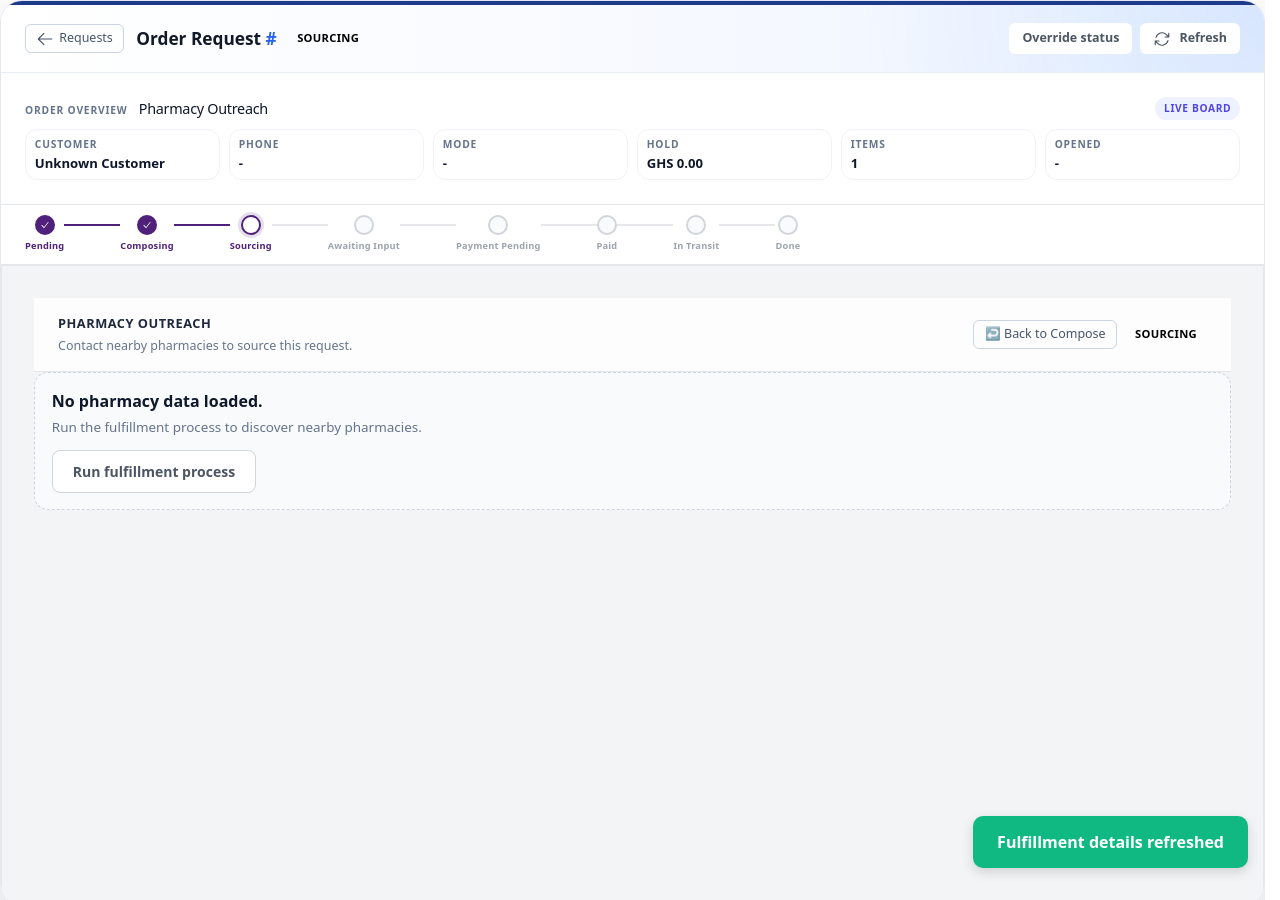
Test: status override › keeps Apply off while no status is chosen
The width and height of the screenshot is (1280, 900).
Click the button "Override status": x=1071, y=39 [1009,23,1132,54]
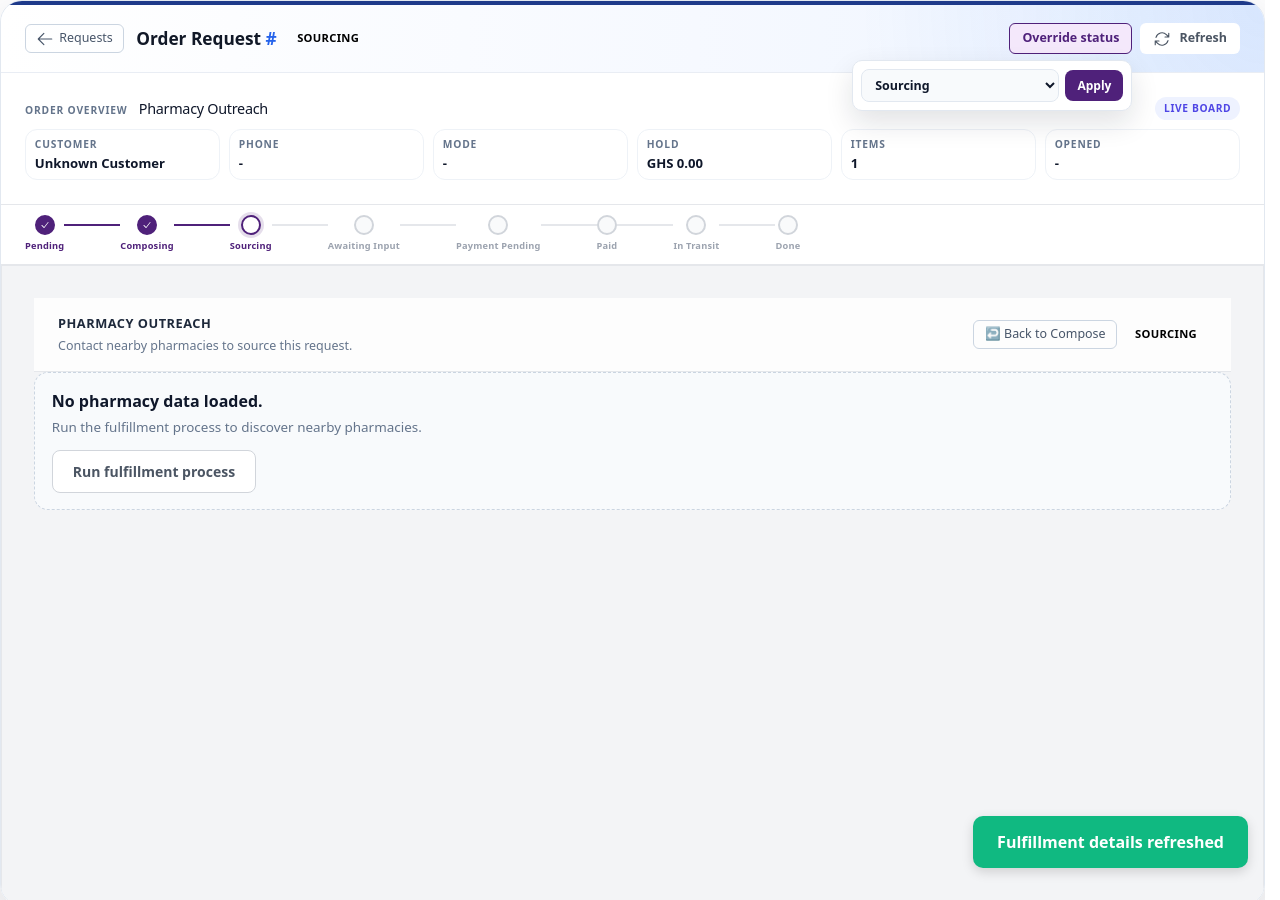
Select "Change status…" in the dropdown with class "header-status-override-select": x=960, y=86 [861,69,1059,102]
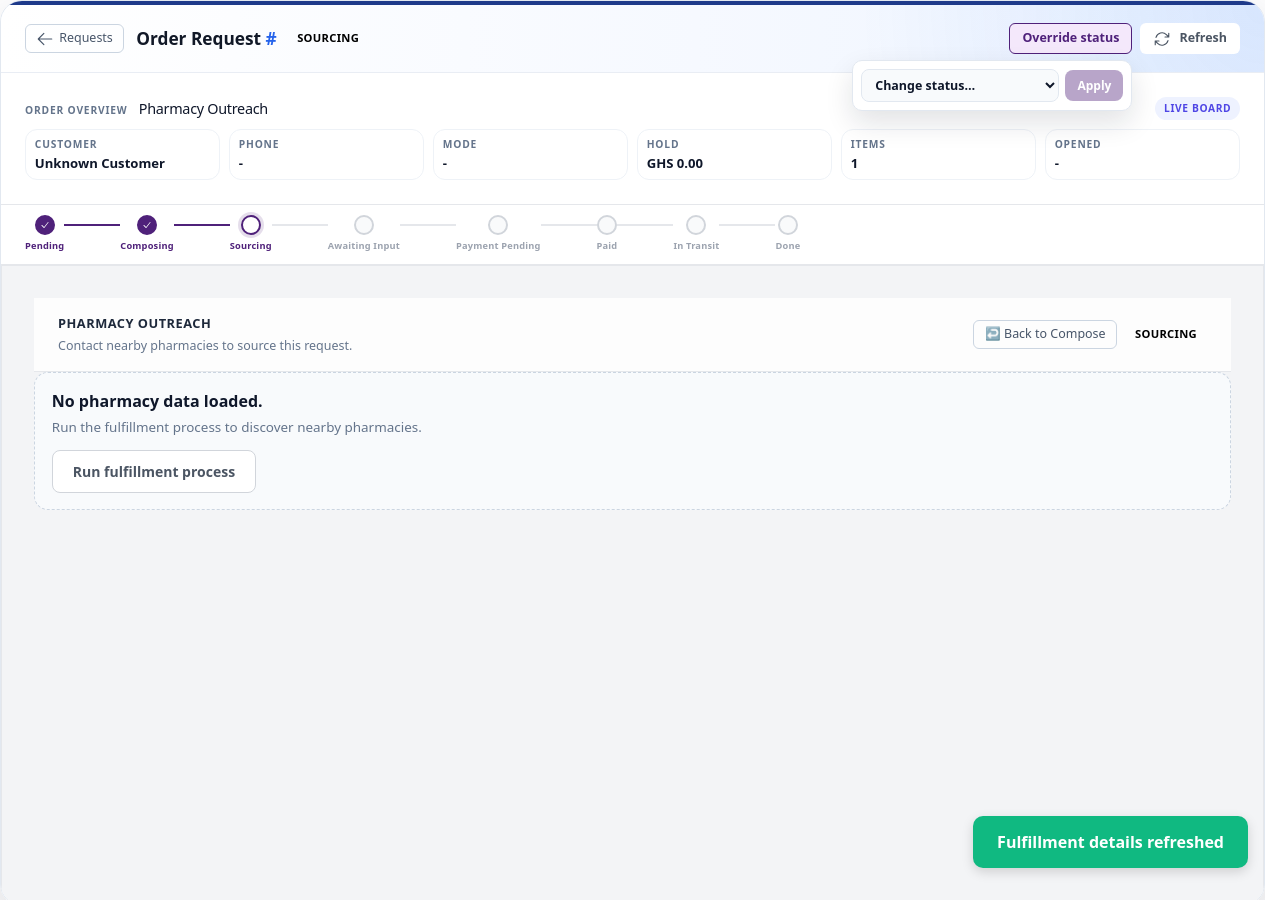
Expected: the button with class "header-status-override-apply" is disabled, [1065,70,1123,101]
